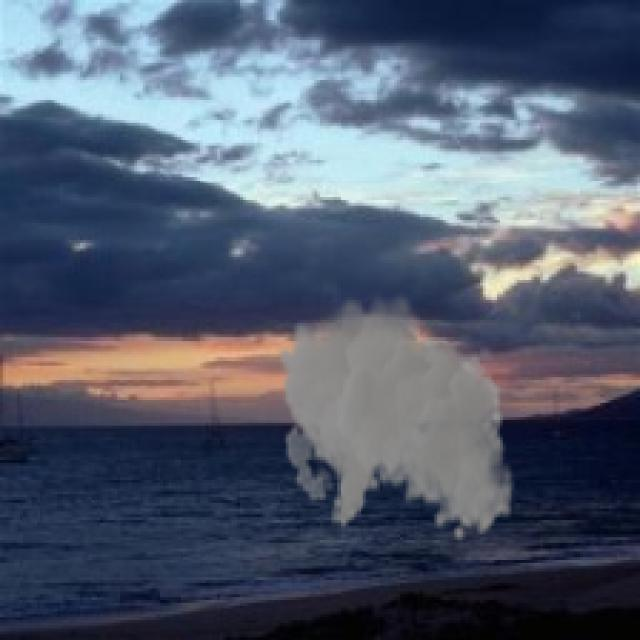Smoke: (277, 286, 514, 543)
